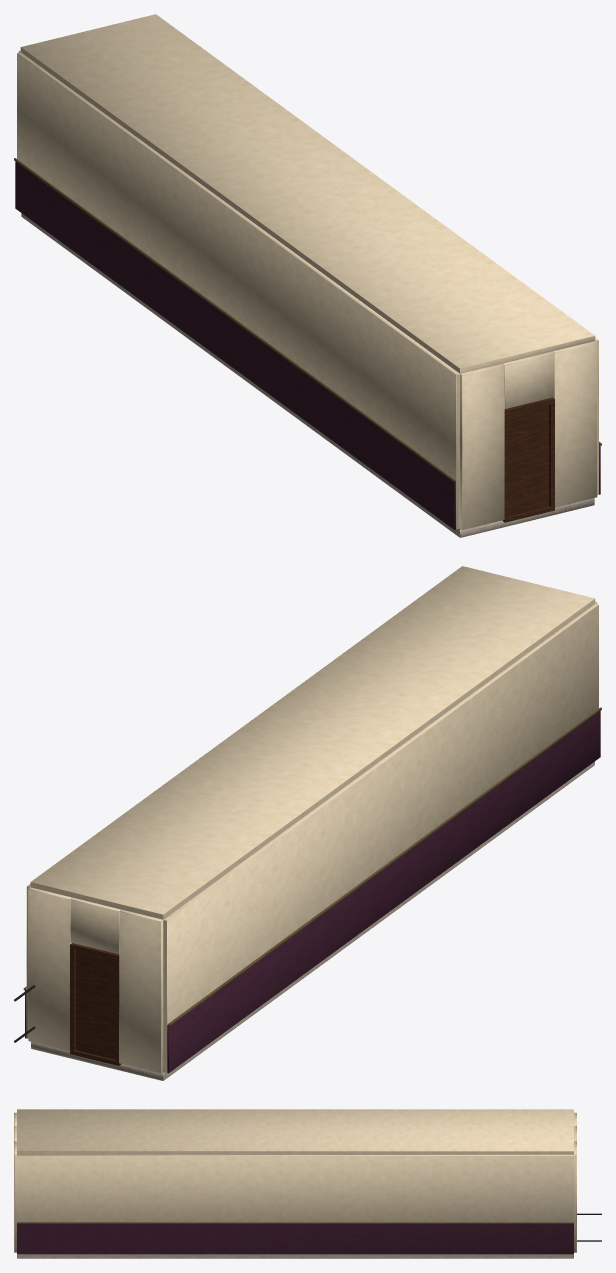
File: explore3d__staff_passage.glb
3 renders of one model, top to bottom at view 1: azimuth 30°, elevation 25°; view 2: azimuth 150°, elevation 25°; view 3: azimuth 270°, elevation 25°, orthographic. The views are drawn at different scales.
Parts seen in each view (by area): view 1: Rebuilt_staff_passage; view 2: Rebuilt_staff_passage; view 3: Rebuilt_staff_passage.
Part boxes in pixels (left/top/right/bottom): Rebuilt_staff_passage: left=14, top=14, right=601, bottom=537; Rebuilt_staff_passage: left=14, top=566, right=601, bottom=1080; Rebuilt_staff_passage: left=14, top=1109, right=601, bottom=1258.
Size of the model in its own units: 3.52 by 3.84 by 18.99.
12 materials, 11 textured.
